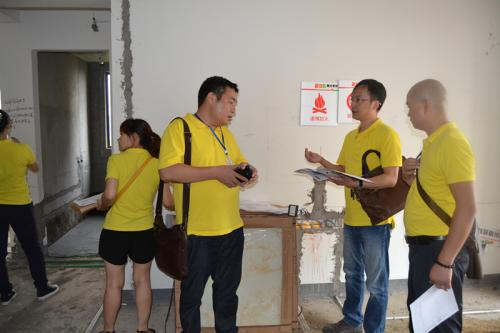boots: (322, 319, 362, 333), (36, 282, 60, 299), (1, 287, 16, 304)
person: (157, 75, 259, 333), (304, 79, 402, 333), (401, 77, 478, 333), (97, 117, 162, 333), (1, 108, 60, 306)
